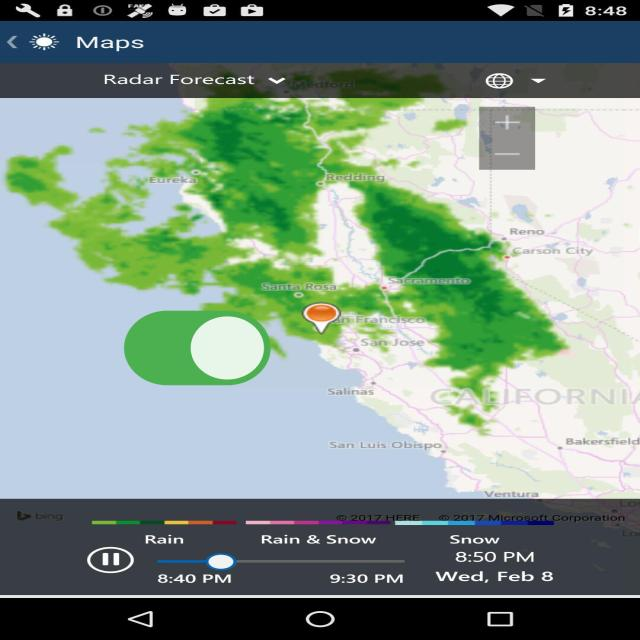social proof: (118, 282, 278, 420)
